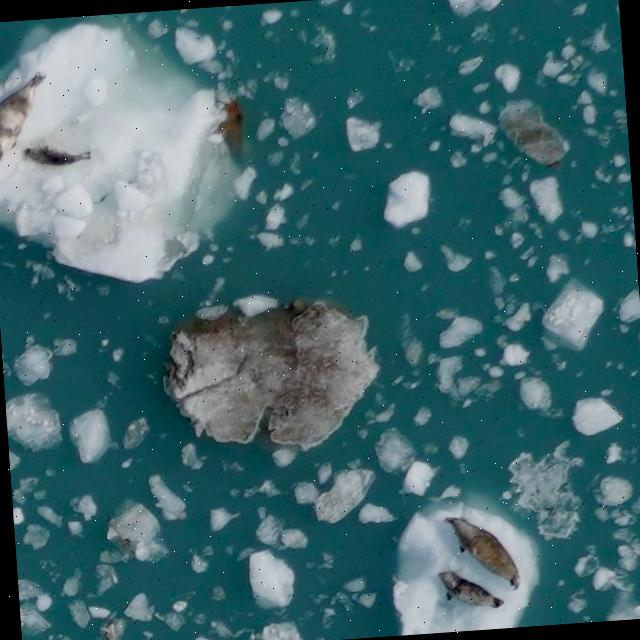seal: (445, 518, 520, 589), (0, 74, 46, 162), (440, 573, 502, 605), (26, 146, 89, 166)
